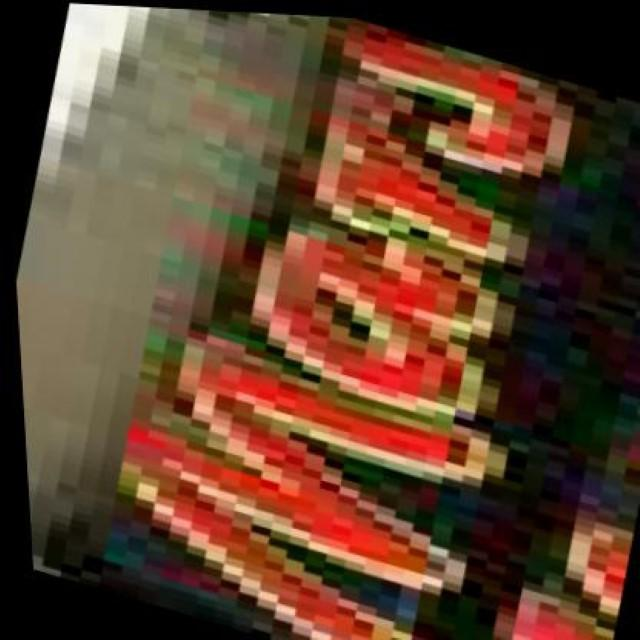mars_chocolate: (110, 53, 600, 640)
